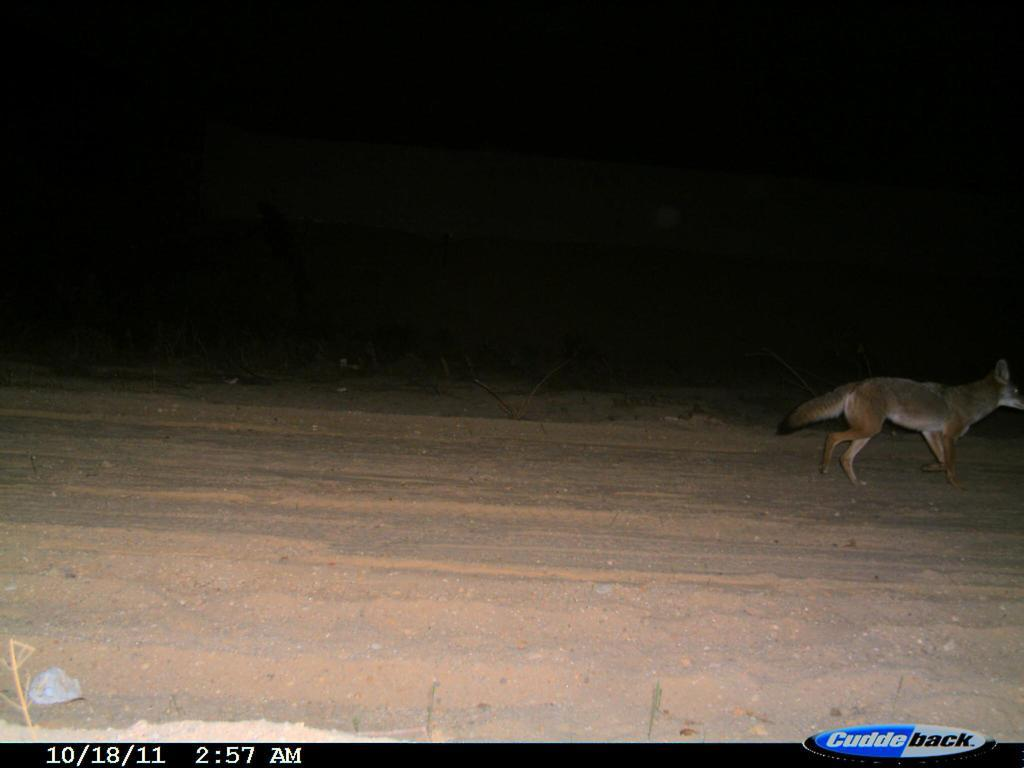coyote: (772, 345, 1023, 497)
